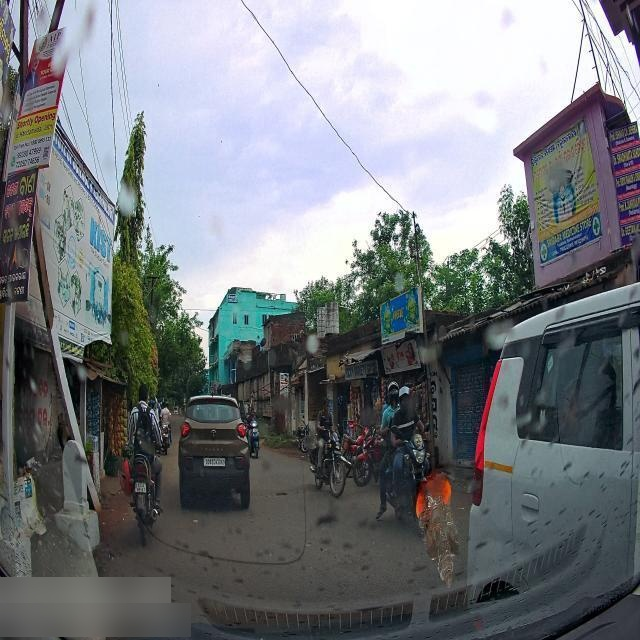pothole: (274, 484, 288, 499)
